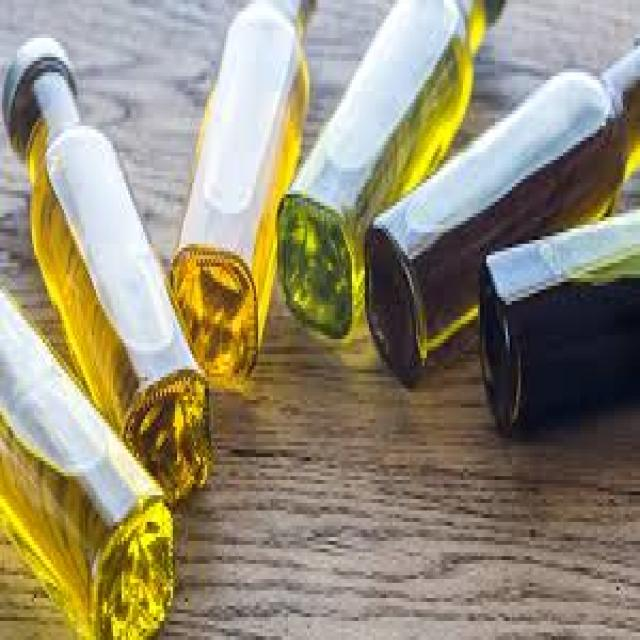Vidrio: (1, 19, 226, 516), (364, 31, 640, 414), (0, 268, 188, 640), (166, 0, 329, 407)
